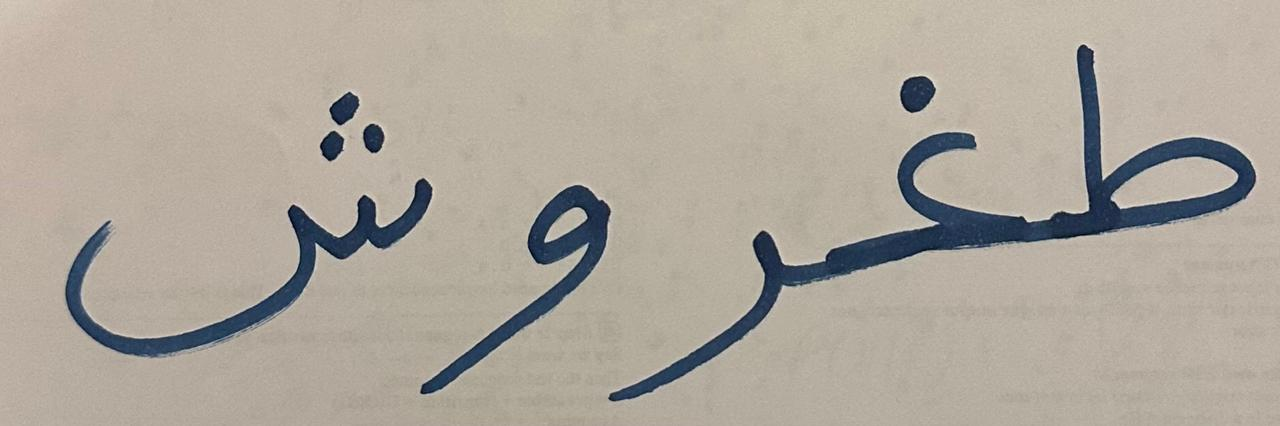ghain: (822, 23, 1028, 326)
sad: (622, 169, 817, 404)
tah: (26, 56, 440, 365)
teh: (1033, 19, 1269, 305)
yeh: (445, 142, 617, 388)
